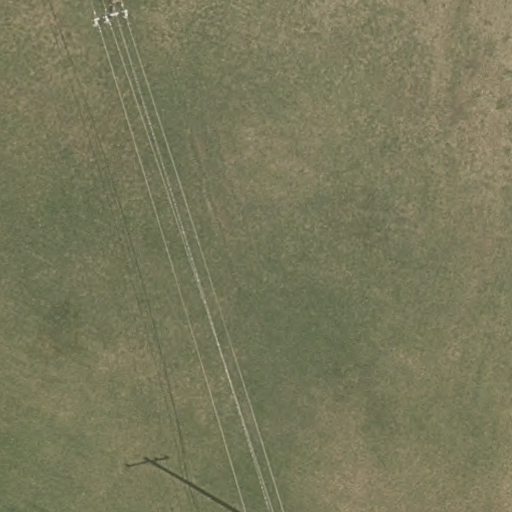DT: (79, 3, 138, 37)
